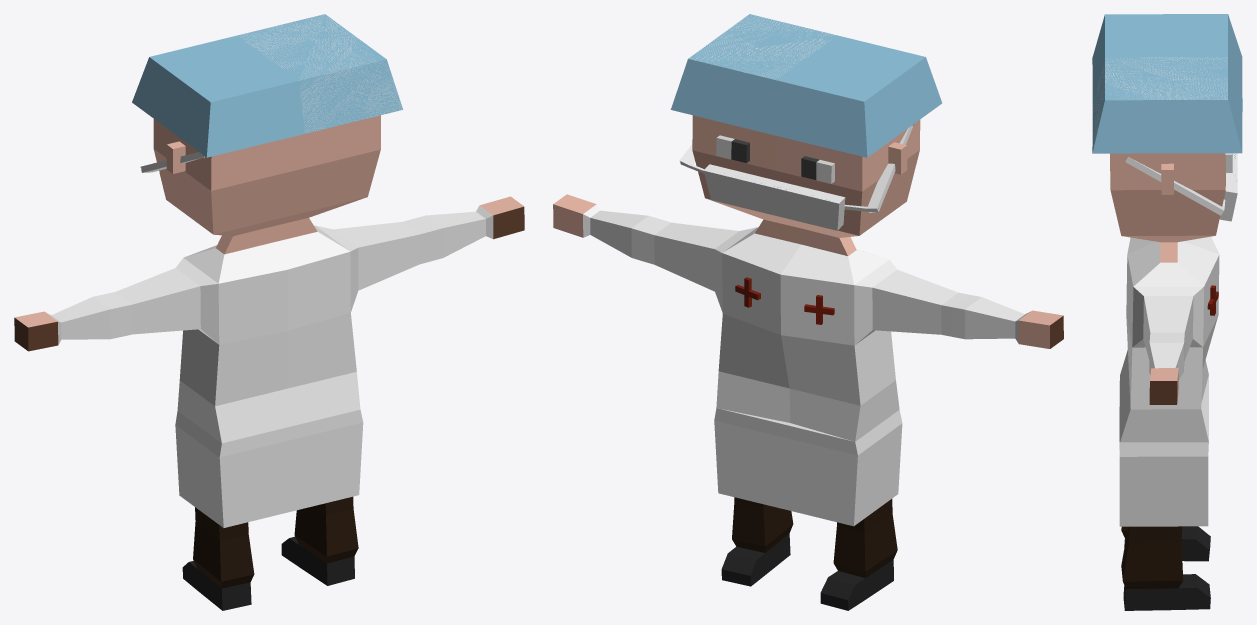
File: DoctorModel.fbx
3 renders of one model, left to right at view 1: azimuth 30°, elevation 25°; view 2: azimuth 150°, elevation 25°; view 3: azimuth 270°, elevation 25°, orthographic.
Visible parts, largest first — view 1: Doctor; view 2: Doctor; view 3: Doctor.
Boxes of the visible parts, box(x1,y1,x2,y2) form: Doctor: box(14, 14, 524, 610); Doctor: box(553, 14, 1063, 610); Doctor: box(1092, 14, 1242, 610).
Bounding box in the file's own units: 58.85 × 59.11 × 15.4.
